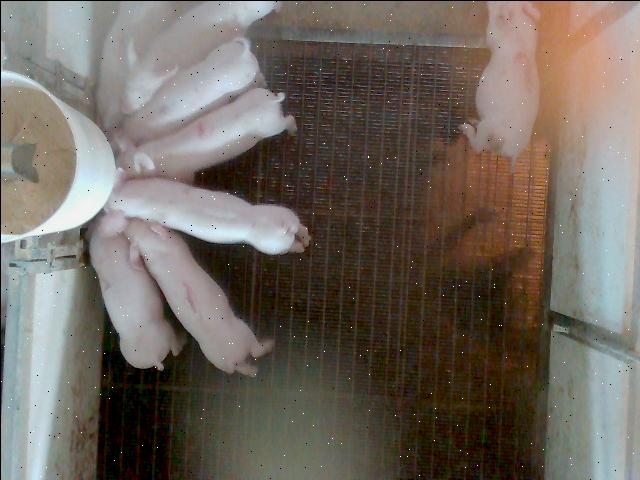pig-1: (125, 218, 272, 375)
pig-3: (462, 2, 539, 159)
pig-4: (116, 88, 294, 182)
